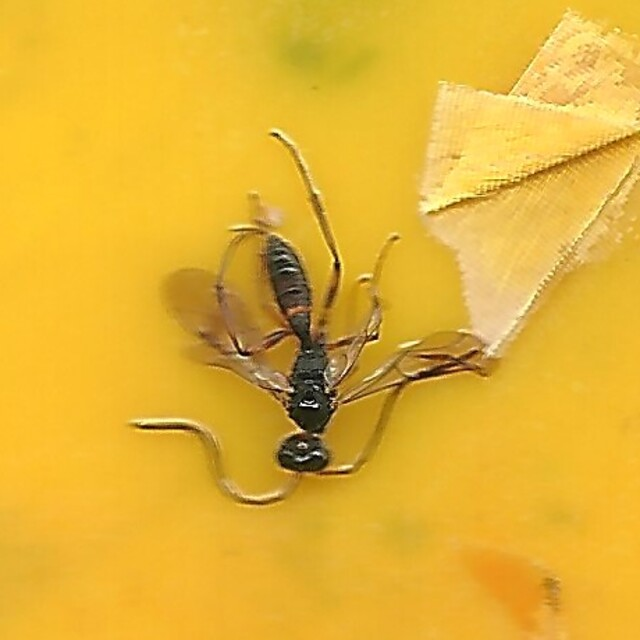Hymenoptera: (139, 133, 501, 507)
